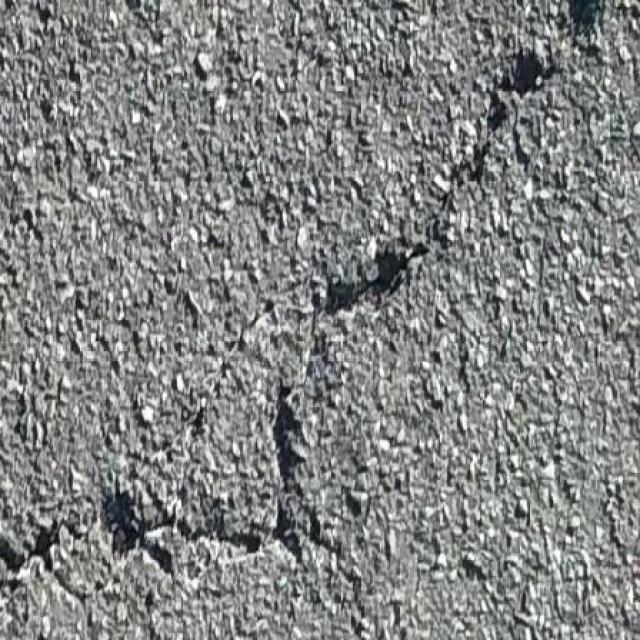Crack: (269, 55, 563, 569), (172, 296, 287, 496), (99, 485, 265, 574), (0, 511, 98, 571), (574, 0, 602, 41)
